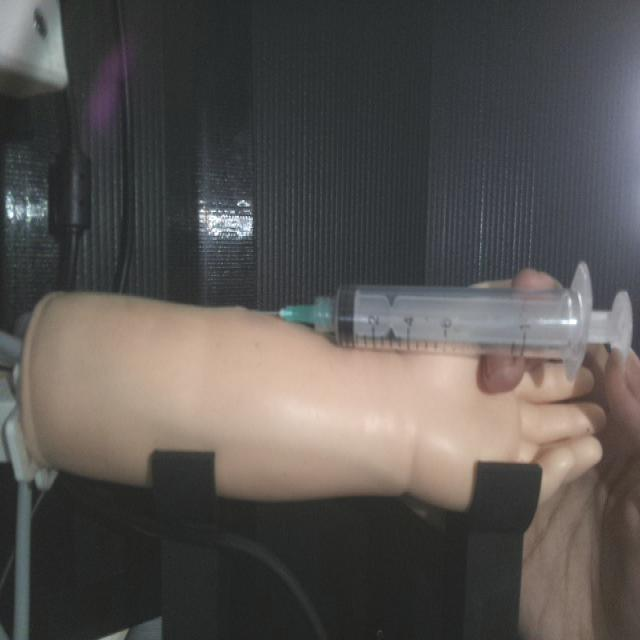Below 15 degrees: (273, 260, 634, 380)
